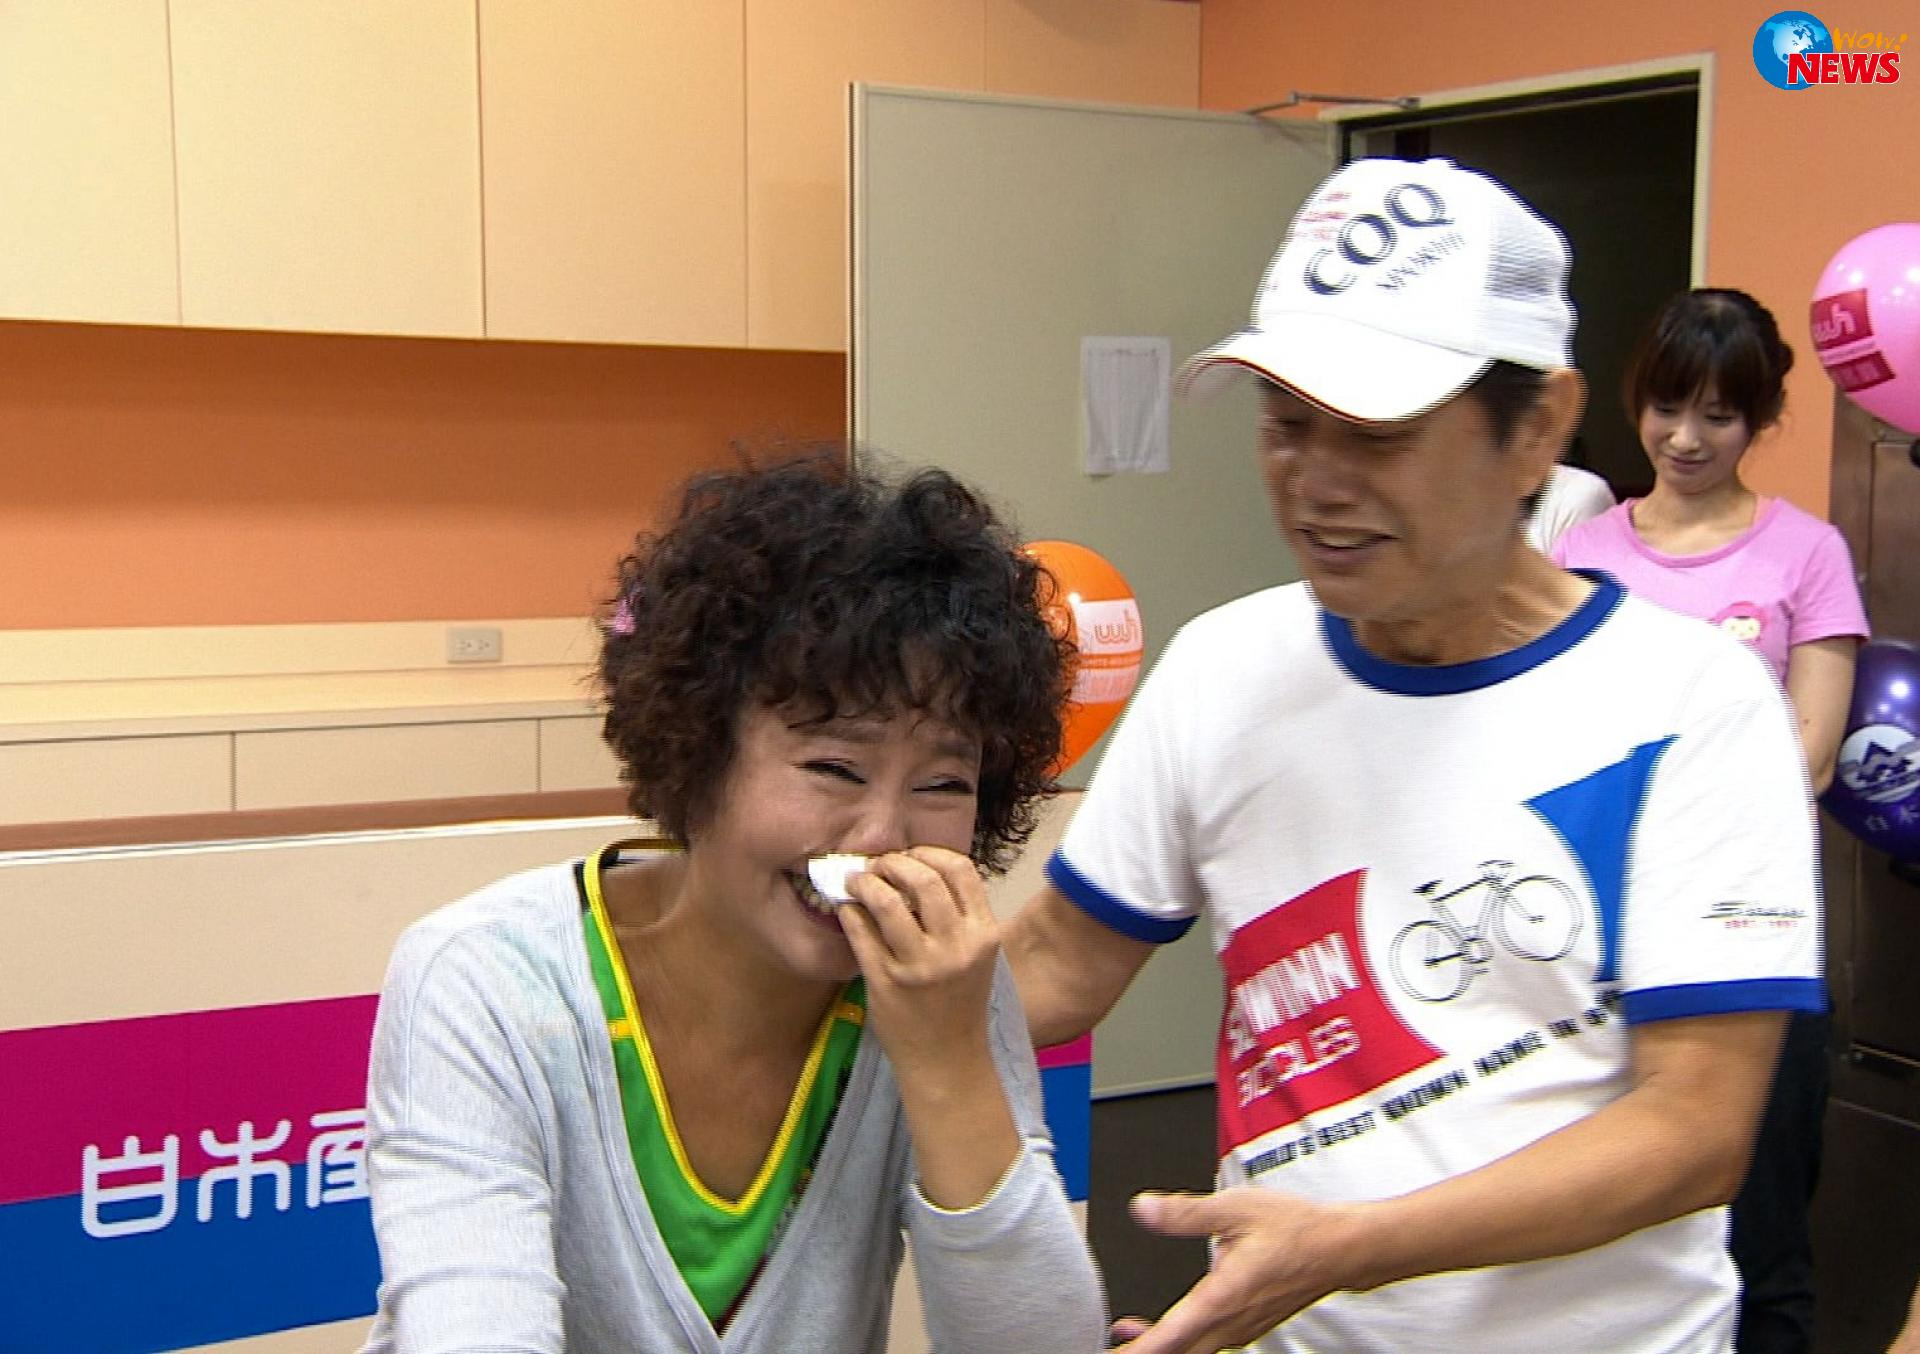face: (693, 633, 1006, 964), (1262, 352, 1510, 628), (1646, 377, 1739, 484)
